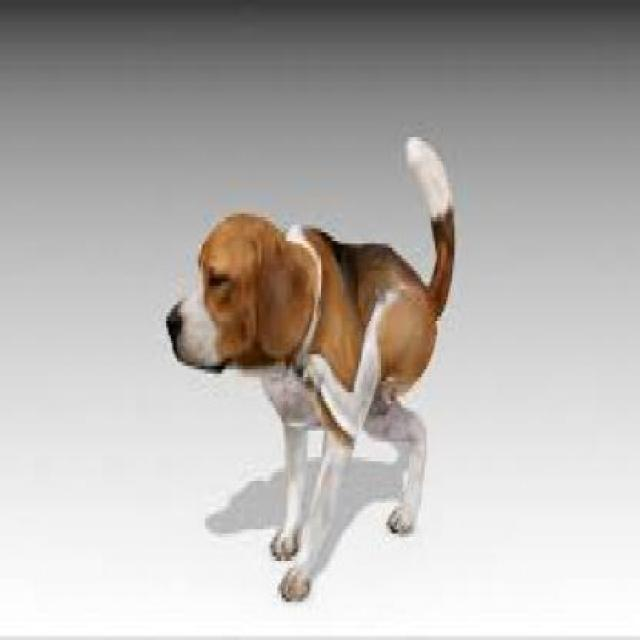Dog: (166, 135, 460, 612)
